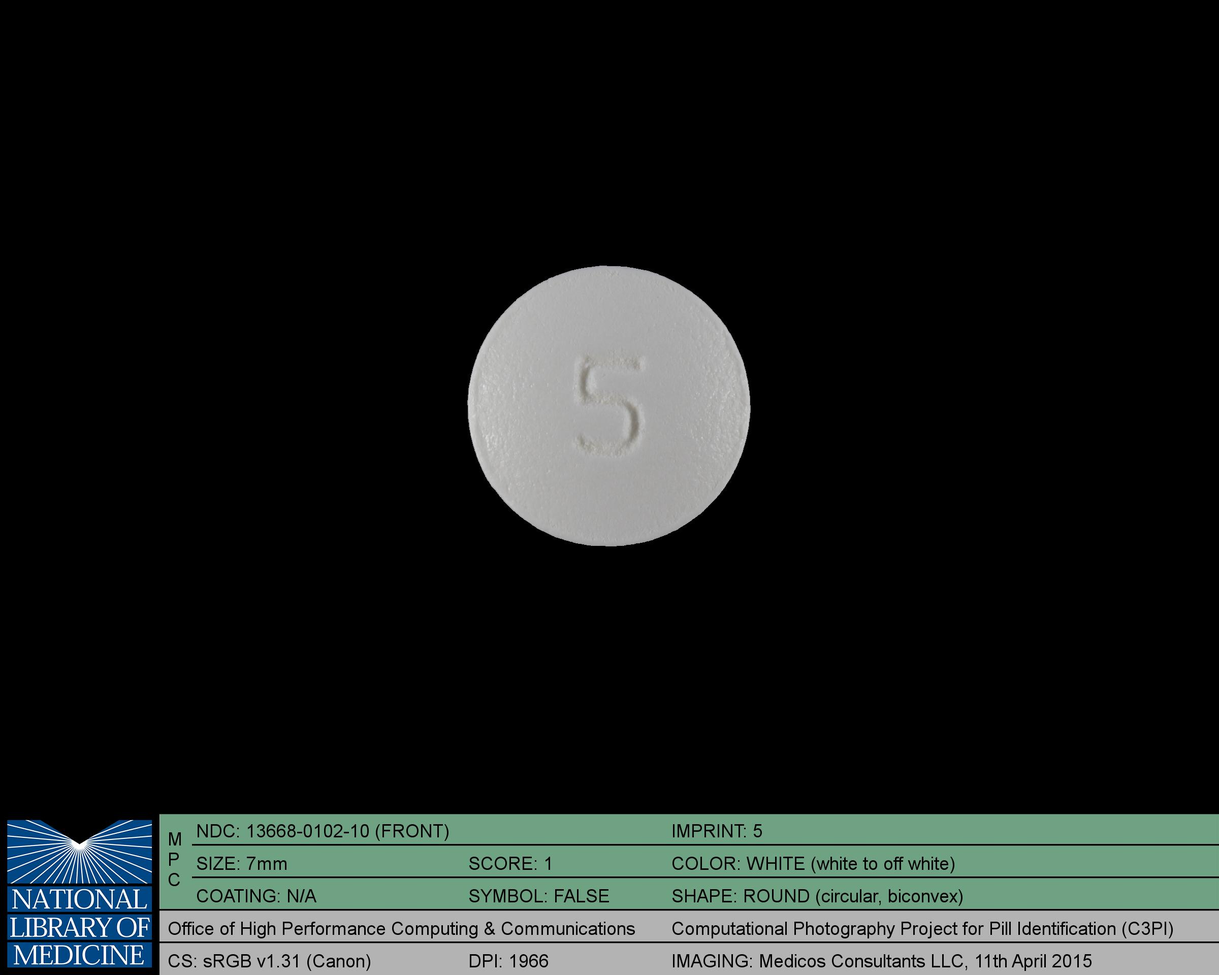Pill: (452, 252, 765, 559)
